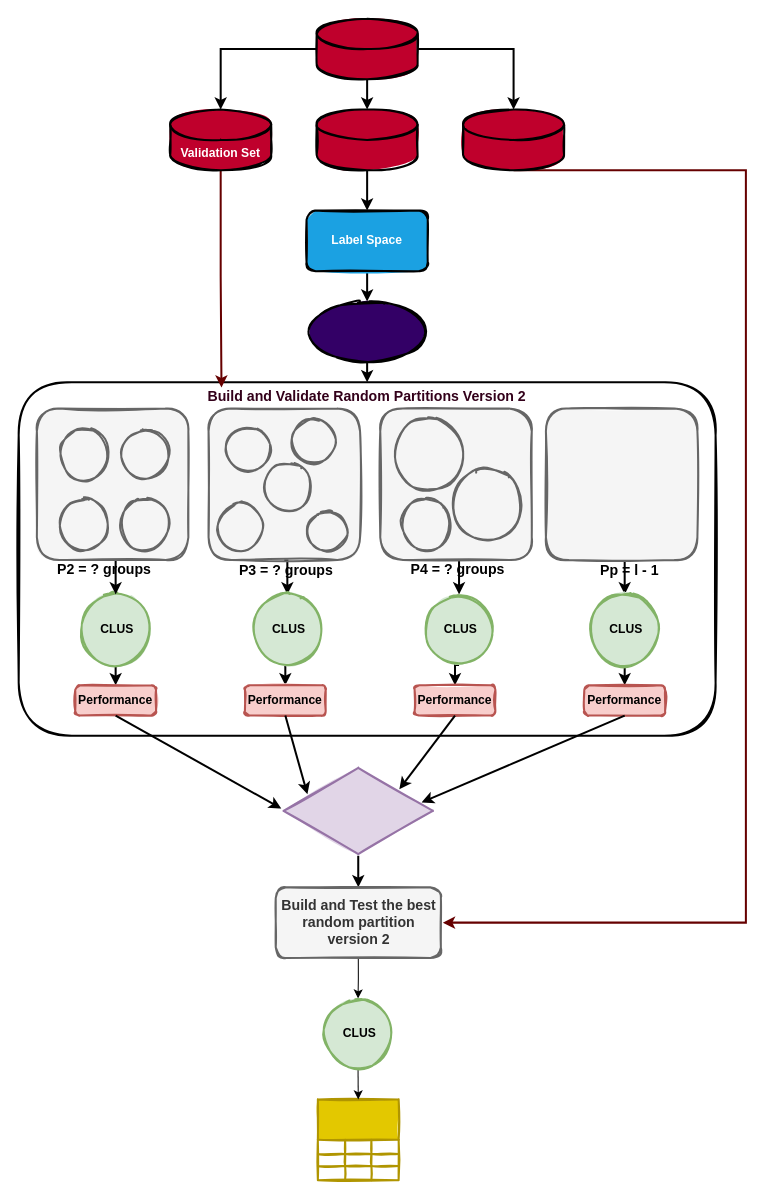
The diagram is 772 pixels wide and 1198 high, and some of its shapes have lost their labels. The shapes that lost their labels are listed below. From the top down, each one's box as (x1, y1, x2, y2) in pixels, then its label:
(315, 17, 418, 80): Dataset
(315, 108, 418, 171): Train Set
(462, 108, 565, 171): Test Set
(305, 300, 428, 363): Generate Random Partitions V2
(282, 765, 433, 856): Best Random Partition Version 2: Micro-F1
(316, 1098, 399, 1181): Results
